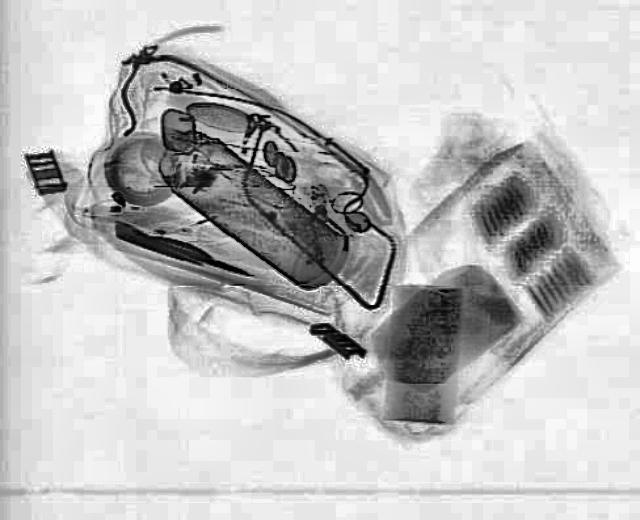Knife: (108, 218, 256, 282)
